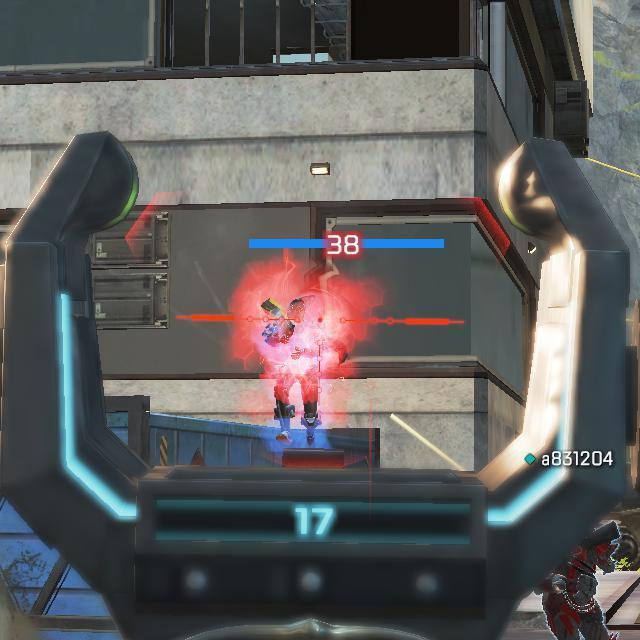avatar: (261, 290, 329, 451)
object: (225, 254, 376, 384)
